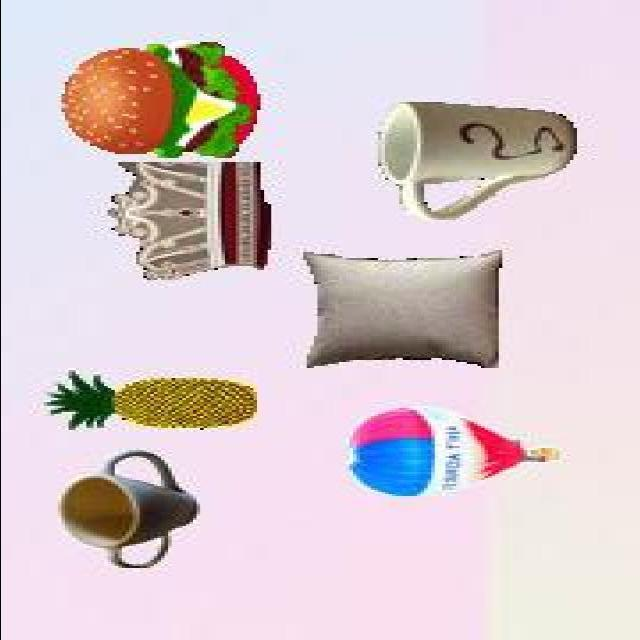Other Objects: (298, 250, 502, 370), (374, 102, 576, 220), (60, 41, 261, 158), (102, 161, 270, 281), (347, 406, 560, 497), (56, 450, 200, 568)
